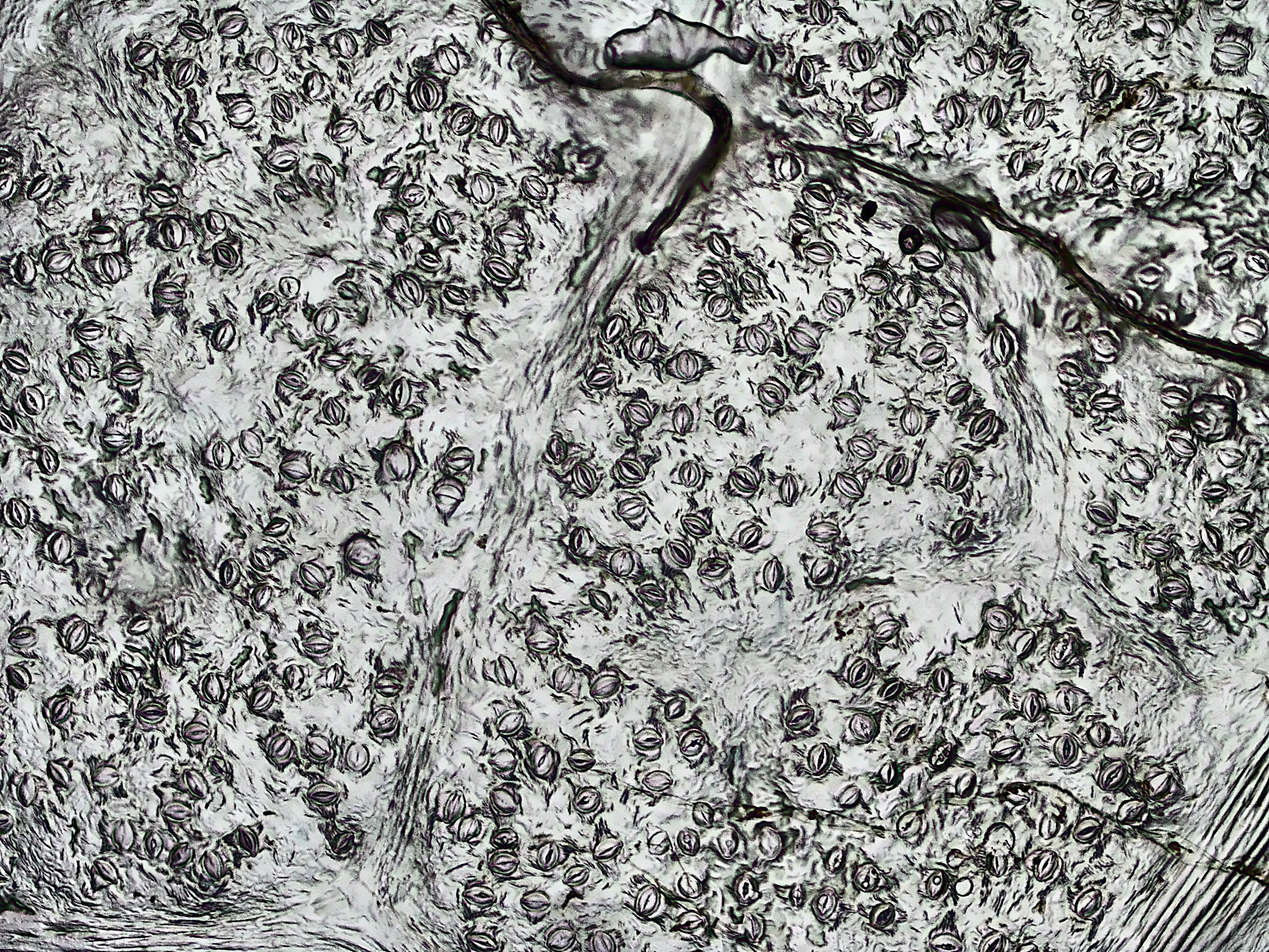stomata: (382, 441, 418, 479), (990, 323, 1016, 367), (343, 539, 380, 569), (1212, 41, 1250, 68), (887, 718, 920, 749), (1048, 634, 1078, 668), (1217, 373, 1248, 405), (868, 78, 898, 110), (945, 456, 971, 492), (808, 742, 834, 778), (1048, 167, 1079, 197), (432, 476, 464, 505), (412, 78, 439, 112), (732, 872, 759, 906), (525, 629, 560, 655), (850, 713, 880, 743), (397, 273, 423, 307), (64, 620, 90, 654), (860, 269, 894, 295), (306, 781, 341, 806), (988, 736, 1023, 761), (489, 786, 519, 815), (1099, 761, 1128, 791), (852, 862, 880, 893), (99, 425, 131, 452), (848, 39, 875, 71), (812, 889, 838, 922), (48, 530, 72, 565), (801, 184, 836, 208), (969, 410, 996, 441), (743, 324, 770, 355), (634, 885, 660, 917), (788, 326, 820, 352), (5, 496, 30, 529), (1053, 733, 1078, 766), (14, 251, 38, 285), (494, 654, 518, 688), (306, 734, 334, 763), (835, 472, 864, 500), (198, 850, 224, 881), (183, 768, 209, 799), (211, 319, 236, 351), (1087, 331, 1119, 356), (1199, 523, 1224, 555), (111, 361, 144, 385), (16, 772, 38, 808), (697, 557, 730, 581), (664, 539, 691, 568), (1125, 454, 1154, 481), (495, 710, 524, 737), (1195, 161, 1229, 184), (218, 13, 248, 39), (355, 364, 385, 390), (19, 385, 45, 415), (470, 173, 495, 204), (238, 428, 263, 459), (488, 851, 519, 876), (785, 705, 816, 730), (546, 927, 577, 952), (1033, 849, 1058, 880), (848, 657, 873, 688), (112, 819, 136, 851), (485, 257, 517, 281), (630, 330, 654, 362), (873, 320, 905, 344), (1232, 321, 1264, 345), (105, 473, 128, 506), (161, 799, 194, 822), (900, 404, 923, 437), (1159, 385, 1192, 408), (573, 786, 600, 814), (1074, 889, 1101, 917), (940, 302, 969, 328), (1073, 817, 1102, 843), (44, 249, 74, 274), (443, 446, 473, 471), (593, 836, 623, 861), (586, 366, 616, 391), (610, 548, 635, 578), (530, 746, 555, 776), (266, 150, 300, 172), (981, 95, 1003, 129), (173, 58, 197, 89), (602, 313, 626, 344), (632, 728, 663, 752), (279, 459, 311, 482), (201, 672, 224, 704), (346, 741, 369, 773), (590, 675, 622, 698), (27, 173, 54, 200), (869, 902, 896, 929), (300, 562, 326, 590), (168, 841, 194, 869), (248, 685, 274, 713), (370, 708, 398, 734), (730, 467, 758, 493), (494, 223, 527, 245), (142, 827, 164, 860), (313, 305, 338, 334), (833, 391, 862, 416), (1086, 501, 1115, 526), (1135, 263, 1164, 288), (226, 102, 256, 126), (763, 557, 783, 593), (566, 749, 596, 773), (152, 283, 186, 304), (944, 93, 965, 127), (910, 250, 944, 271), (177, 19, 208, 42), (573, 462, 596, 493), (804, 241, 835, 264), (1143, 538, 1174, 561), (1158, 577, 1189, 600), (680, 514, 712, 536), (181, 119, 208, 145), (897, 811, 923, 838), (130, 42, 158, 67), (380, 208, 408, 233), (461, 886, 496, 906), (637, 288, 665, 313), (806, 522, 841, 542), (821, 291, 846, 319), (1057, 361, 1085, 386), (415, 249, 444, 273), (847, 435, 876, 459), (1168, 434, 1197, 458), (925, 869, 949, 898), (444, 790, 465, 823), (673, 403, 694, 436), (536, 842, 559, 872), (569, 527, 592, 557), (636, 583, 666, 606), (147, 185, 178, 207), (237, 824, 259, 855), (519, 890, 550, 912), (1022, 98, 1044, 129), (365, 19, 391, 45), (680, 730, 706, 756), (928, 742, 954, 768), (678, 872, 703, 899), (892, 31, 917, 58), (588, 587, 613, 614), (452, 108, 476, 136), (7, 663, 31, 691), (302, 634, 334, 655), (707, 231, 731, 259), (779, 475, 800, 507), (887, 453, 908, 485), (757, 383, 785, 407), (964, 47, 988, 75), (335, 29, 358, 58), (269, 732, 292, 761), (323, 396, 346, 425), (1237, 113, 1266, 136), (465, 932, 500, 951), (282, 21, 304, 51), (163, 216, 183, 249), (99, 253, 121, 283), (488, 114, 508, 147), (37, 445, 59, 475), (546, 434, 568, 464), (1093, 69, 1115, 99), (309, 0, 335, 25), (212, 242, 237, 268), (520, 176, 547, 200), (810, 557, 834, 584), (47, 759, 70, 787), (1002, 50, 1030, 73), (553, 664, 576, 692), (677, 828, 700, 856), (276, 371, 308, 391), (220, 558, 240, 590), (436, 46, 458, 75), (91, 765, 120, 787), (374, 675, 403, 697), (676, 350, 698, 379), (1127, 130, 1156, 152), (1022, 692, 1044, 721), (1117, 799, 1146, 821), (250, 582, 271, 612), (8, 627, 38, 648), (138, 702, 168, 723), (165, 636, 186, 666), (181, 721, 211, 742), (797, 57, 815, 92), (626, 399, 651, 424), (946, 380, 971, 405), (68, 355, 92, 381), (93, 859, 119, 883), (456, 816, 482, 840), (1092, 162, 1118, 186), (270, 94, 293, 121), (1056, 688, 1079, 715), (1087, 721, 1110, 748), (1150, 772, 1173, 799), (614, 461, 645, 481), (842, 117, 873, 137), (1215, 447, 1246, 467), (642, 770, 673, 790), (256, 47, 278, 75), (489, 748, 517, 770), (825, 846, 847, 874), (1091, 393, 1125, 411), (617, 498, 646, 519), (392, 376, 411, 408), (379, 165, 404, 189), (213, 441, 233, 471), (1130, 172, 1154, 197), (331, 119, 357, 142), (563, 863, 589, 886), (1133, 82, 1156, 108), (897, 283, 920, 309), (986, 608, 1012, 631), (2, 351, 29, 373), (920, 343, 947, 365), (678, 911, 705, 933), (873, 620, 900, 642), (923, 9, 944, 37), (374, 82, 394, 111), (718, 829, 738, 858), (402, 183, 426, 207), (878, 678, 902, 702), (982, 665, 1014, 683), (205, 208, 227, 234), (331, 467, 353, 493), (779, 155, 801, 181), (679, 461, 701, 487), (692, 802, 714, 828), (319, 351, 349, 370), (433, 210, 453, 238), (248, 548, 271, 572), (647, 830, 670, 854), (739, 527, 763, 550), (708, 295, 732, 318), (50, 698, 72, 723), (303, 70, 324, 96), (283, 664, 304, 690), (714, 404, 735, 430), (951, 518, 972, 544), (955, 771, 976, 797), (74, 321, 104, 339), (490, 828, 517, 848), (1008, 150, 1026, 180), (1228, 510, 1255, 530), (1212, 250, 1237, 271), (1039, 813, 1060, 838), (325, 663, 345, 689), (88, 225, 115, 244), (117, 668, 136, 695), (738, 272, 761, 294), (839, 786, 862, 808), (665, 696, 686, 720), (1063, 309, 1087, 330), (1235, 540, 1255, 565), (263, 517, 289, 536), (279, 276, 301, 298), (789, 213, 813, 233), (332, 832, 354, 853), (444, 285, 468, 304), (699, 268, 723, 287), (933, 667, 952, 691), (127, 617, 152, 635), (257, 293, 278, 314), (208, 756, 230, 776), (1202, 481, 1227, 498), (789, 883, 806, 908), (880, 761, 897, 785), (338, 281, 361, 298)
